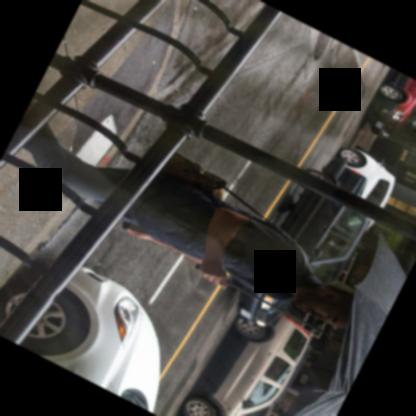handbag: (158, 150, 302, 263)
